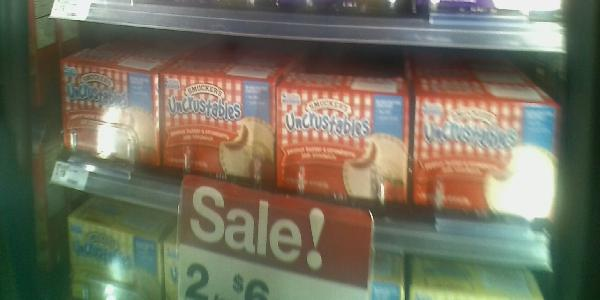icecream: (415, 92, 555, 228), (276, 82, 410, 209), (160, 66, 276, 193), (59, 55, 160, 170)
